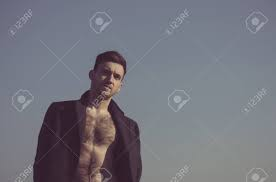white_male: (89, 47, 139, 91)
